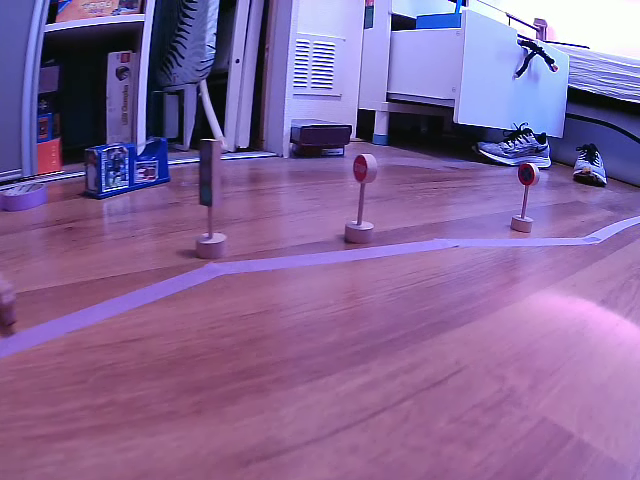groenlicht: (198, 139, 216, 209)
stopbord: (352, 155, 369, 184)
